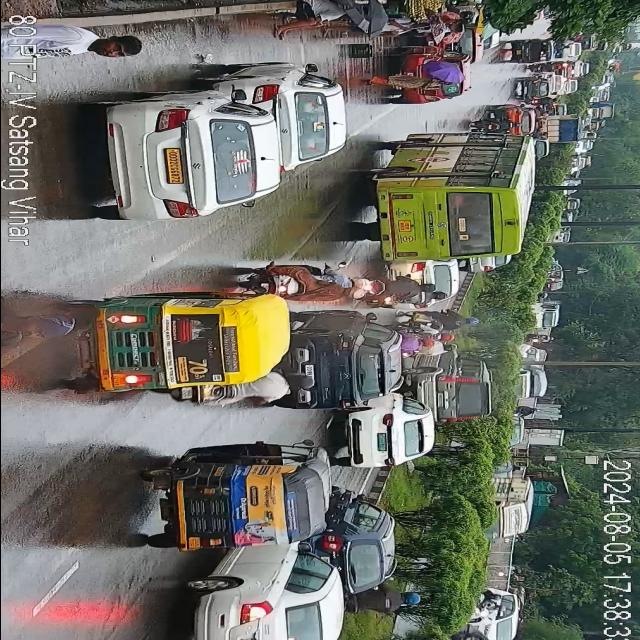2-wheelers: (246, 261, 372, 299), (163, 379, 299, 412), (362, 277, 442, 303), (398, 330, 454, 364), (403, 312, 482, 328), (472, 114, 516, 132), (473, 592, 506, 614), (524, 98, 558, 106), (454, 635, 503, 640), (530, 130, 547, 140), (555, 42, 570, 52), (538, 108, 550, 116)
auto: (70, 289, 286, 382), (148, 442, 328, 546), (508, 39, 550, 64)
bus: (365, 133, 541, 273)
car: (98, 88, 281, 222), (188, 542, 342, 640), (292, 306, 414, 410), (238, 64, 346, 164), (318, 491, 394, 601), (342, 394, 432, 472), (388, 48, 472, 106), (419, 360, 494, 424), (459, 585, 520, 640), (387, 258, 464, 284), (428, 36, 483, 58), (512, 75, 550, 99), (462, 257, 512, 273), (554, 61, 590, 80), (494, 104, 536, 120), (535, 138, 551, 160)
pedestrian: (68, 27, 158, 66), (272, 0, 356, 41), (339, 20, 426, 36), (366, 76, 450, 90), (424, 12, 468, 32)
truck: (490, 478, 530, 538), (540, 113, 580, 143), (534, 305, 562, 329)
